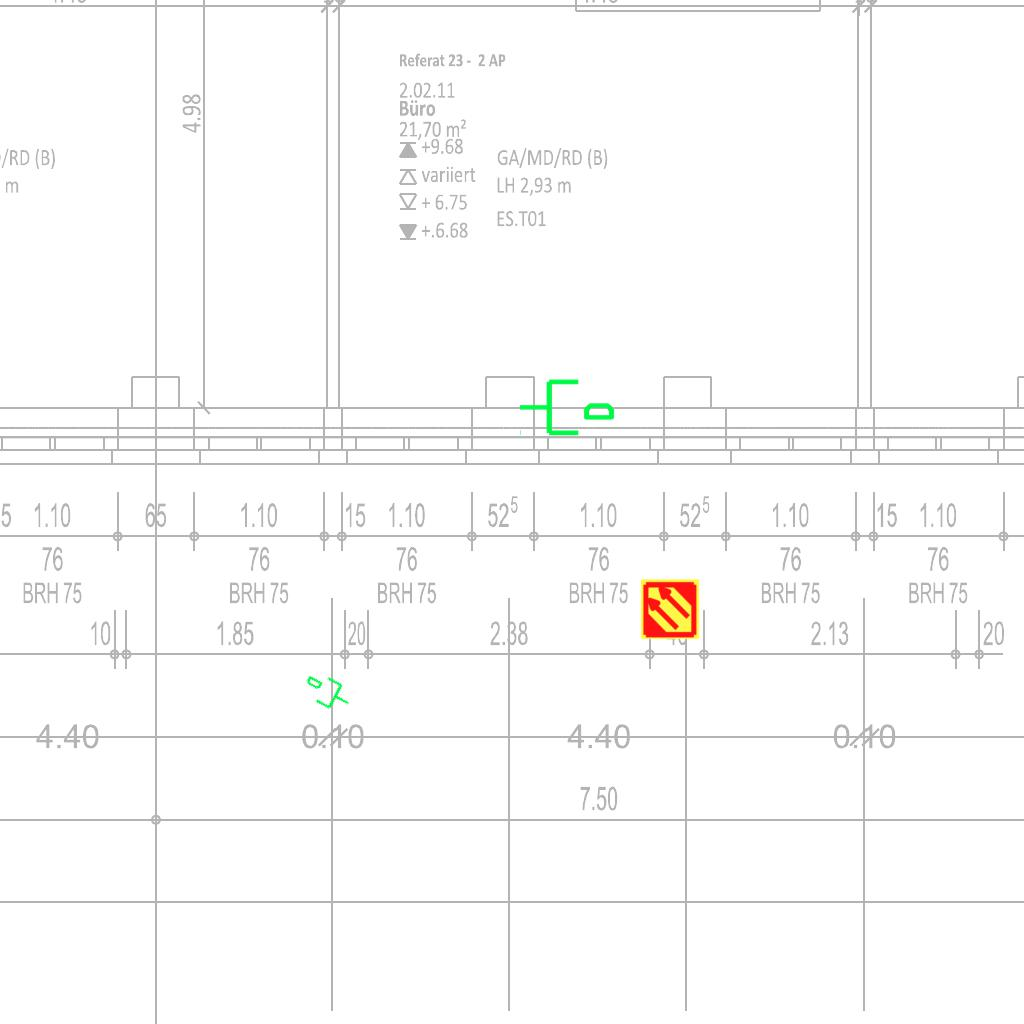ASR_Ansaugrauchmelder: (639, 578, 701, 640)
Datenanschluss_einfach: (517, 371, 617, 440), (296, 666, 358, 720)
